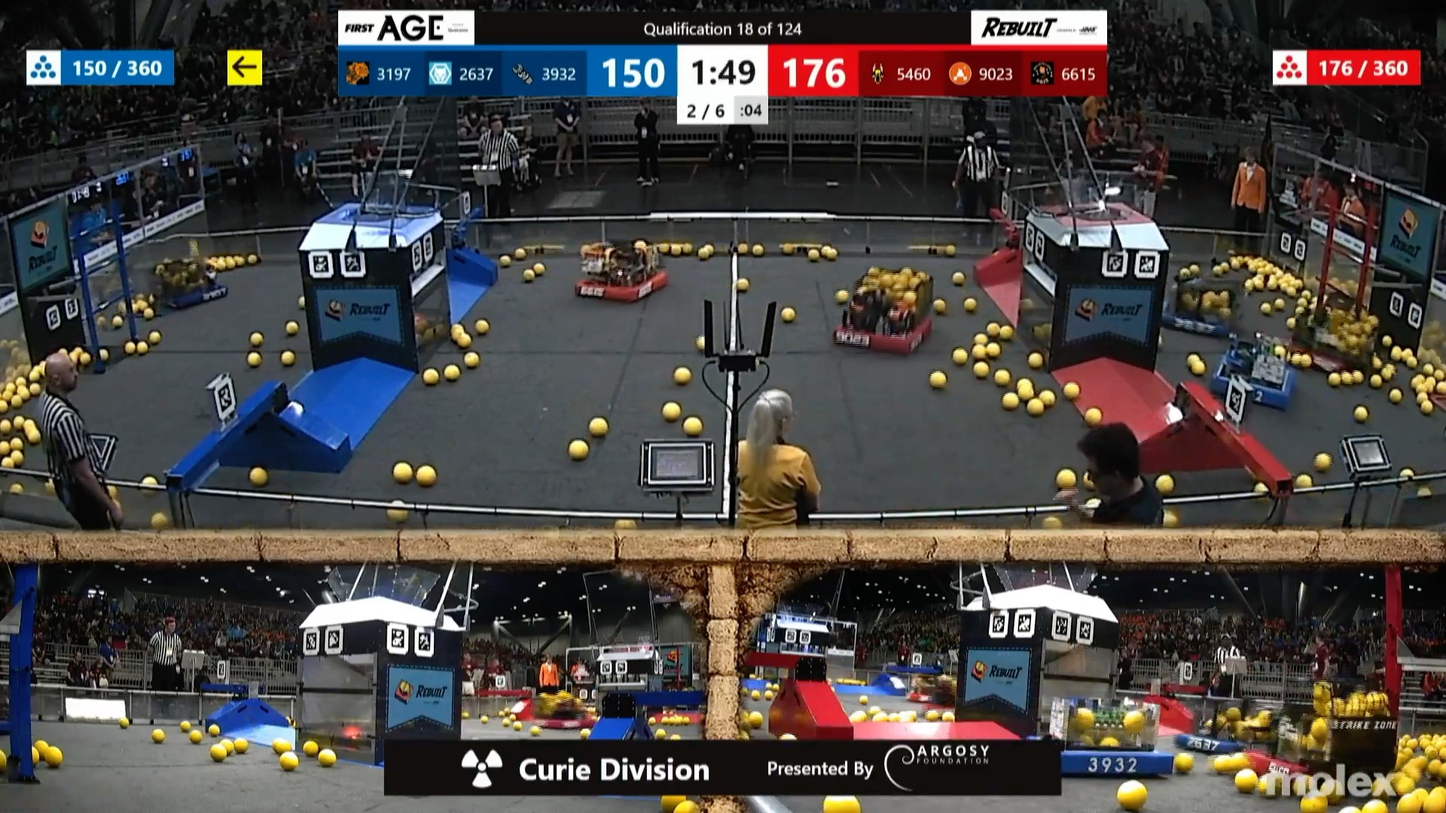bumpers: (1044, 732, 1176, 786), (1185, 363, 1301, 414), (827, 311, 941, 359), (568, 263, 679, 309), (1143, 299, 1243, 340), (151, 273, 240, 312), (1161, 724, 1258, 759)
